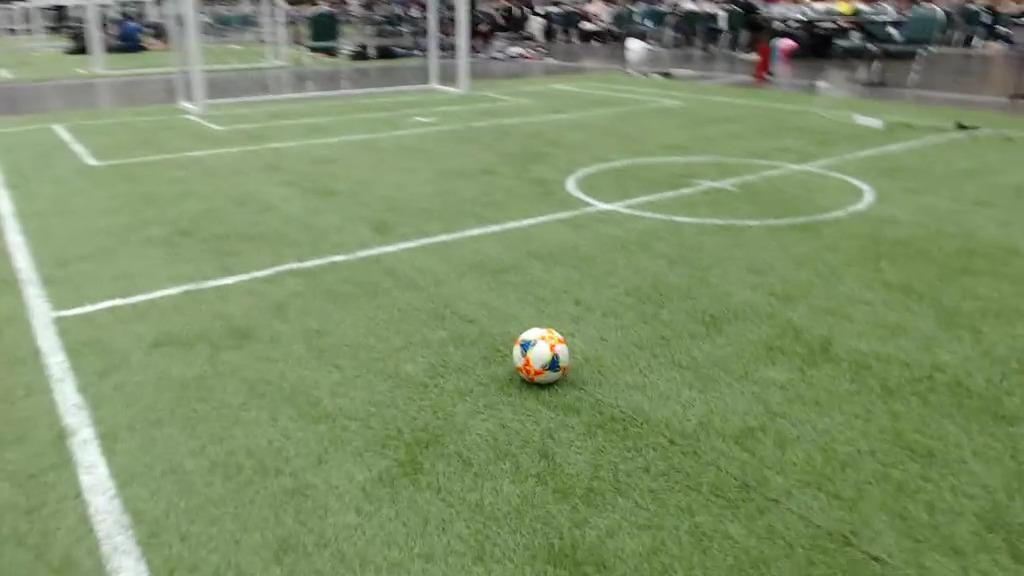ball: (516, 327, 566, 383)
